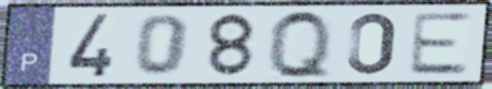0: (133, 12, 191, 79), (345, 11, 398, 77)
4: (64, 11, 116, 80)
8: (204, 10, 261, 80)
E: (404, 11, 473, 77)
Q: (266, 7, 334, 82)
